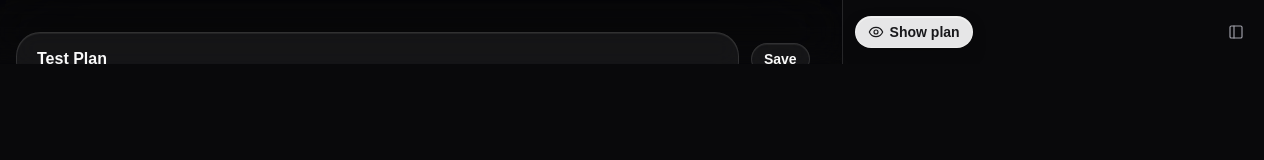
Test: CoachWorkspace layout › shows a collapsed chat rail with expand control after collapse
Step 1. Click the button named "Collapse chat" → (1236, 32), box [1220,16,1252,48]
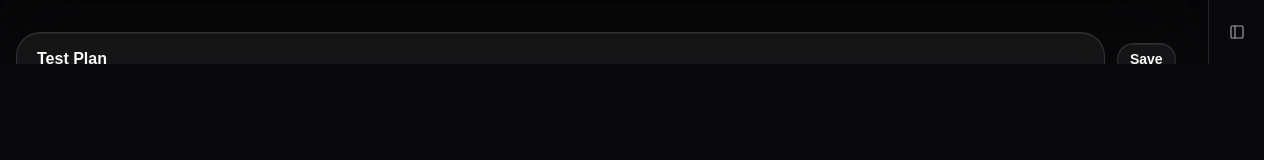
Expected: the button named "Expand chat" is shown, [1220,16,1252,48]
